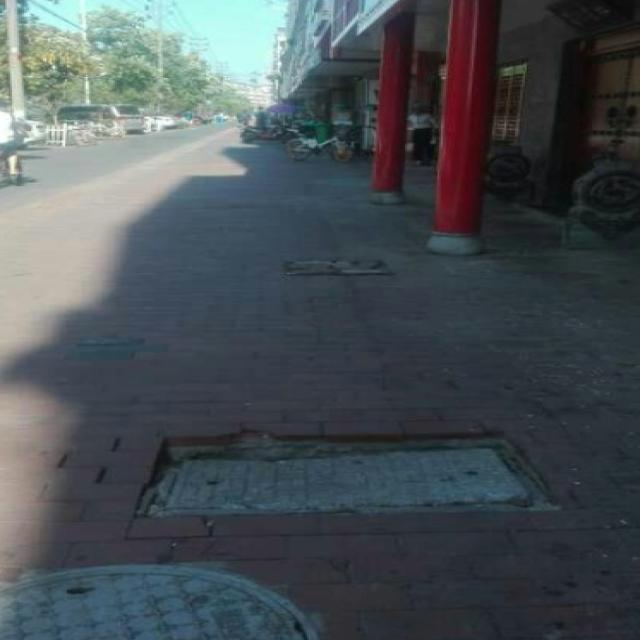Faulty: (128, 422, 570, 525)
Good: (0, 541, 338, 640)
